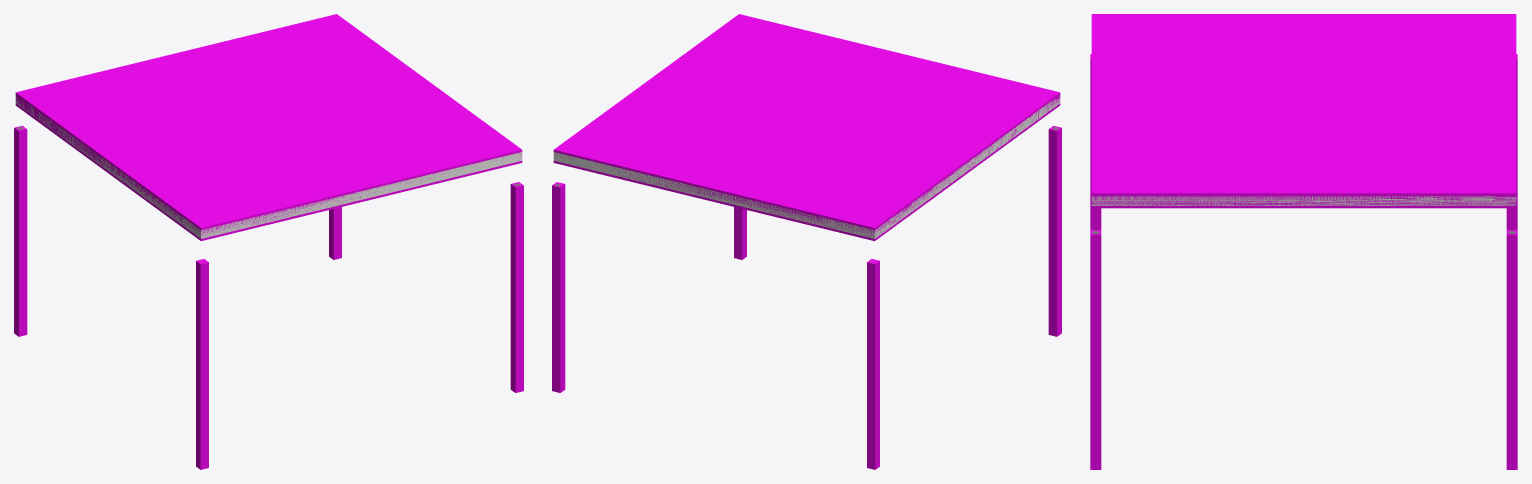
Rendered from tent_blank_3x3.dae.
The picture shows the model from 3 angles, left to right: view 1: azimuth 30°, elevation 25°; view 2: azimuth 150°, elevation 25°; view 3: azimuth 270°, elevation 25°; orthographic projection. The views are drawn at different scales.
Visible parts, largest first — view 1: Colmesh_roof-1, roof, Colmesh_pole1-1, Colmesh_pole3-1, Colmesh_pole0-1, Colmesh_pole2-1; view 2: Colmesh_roof-1, roof, Colmesh_pole2-1, Colmesh_pole0-1, Colmesh_pole3-1, Colmesh_pole1-1; view 3: Colmesh_roof-1, roof, Colmesh_pole2-1, Colmesh_pole1-1, Colmesh_pole0-1, Colmesh_pole3-1.
Part boxes in pixels (x1=…): Colmesh_roof-1: x1=15, y1=14, x2=522, y2=241; roof: x1=15, y1=96, x2=522, y2=238; Colmesh_pole1-1: x1=510, y1=182, x2=523, y2=392; Colmesh_pole3-1: x1=14, y1=125, x2=27, y2=336; Colmesh_pole0-1: x1=196, y1=259, x2=208, y2=469; Colmesh_pole2-1: x1=329, y1=207, x2=341, y2=259; Colmesh_roof-1: x1=553, y1=14, x2=1060, y2=241; roof: x1=553, y1=96, x2=1060, y2=238; Colmesh_pole2-1: x1=552, y1=182, x2=565, y2=392; Colmesh_pole0-1: x1=1048, y1=125, x2=1061, y2=336; Colmesh_pole3-1: x1=867, y1=259, x2=879, y2=469; Colmesh_pole1-1: x1=734, y1=207, x2=746, y2=259; Colmesh_roof-1: x1=1091, y1=14, x2=1516, y2=208; roof: x1=1091, y1=196, x2=1516, y2=205; Colmesh_pole2-1: x1=1506, y1=230, x2=1517, y2=469; Colmesh_pole1-1: x1=1090, y1=230, x2=1101, y2=469; Colmesh_pole0-1: x1=1090, y1=54, x2=1101, y2=229; Colmesh_pole3-1: x1=1506, y1=54, x2=1517, y2=229.
Size of the model in its own units: 3.08 by 3.08 by 2.2.
Materials: 3 (1 with a texture image).
